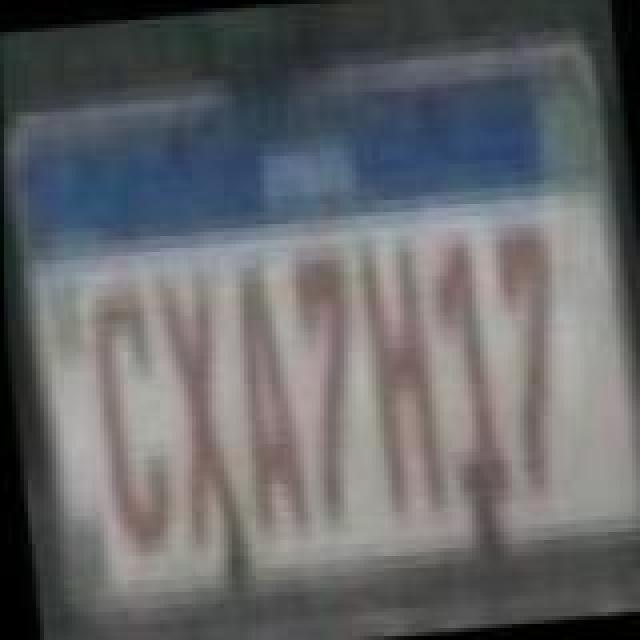1: (426, 220, 514, 504)
7: (284, 244, 376, 524), (484, 212, 576, 492)
A: (218, 262, 306, 550)
C: (80, 276, 176, 552)
H: (354, 232, 450, 524)
X: (154, 268, 246, 548)
